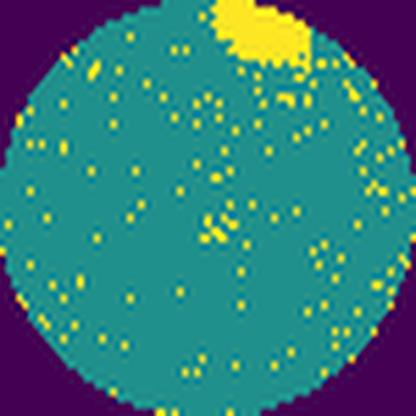Edge-Loc: (211, 0, 315, 78)
